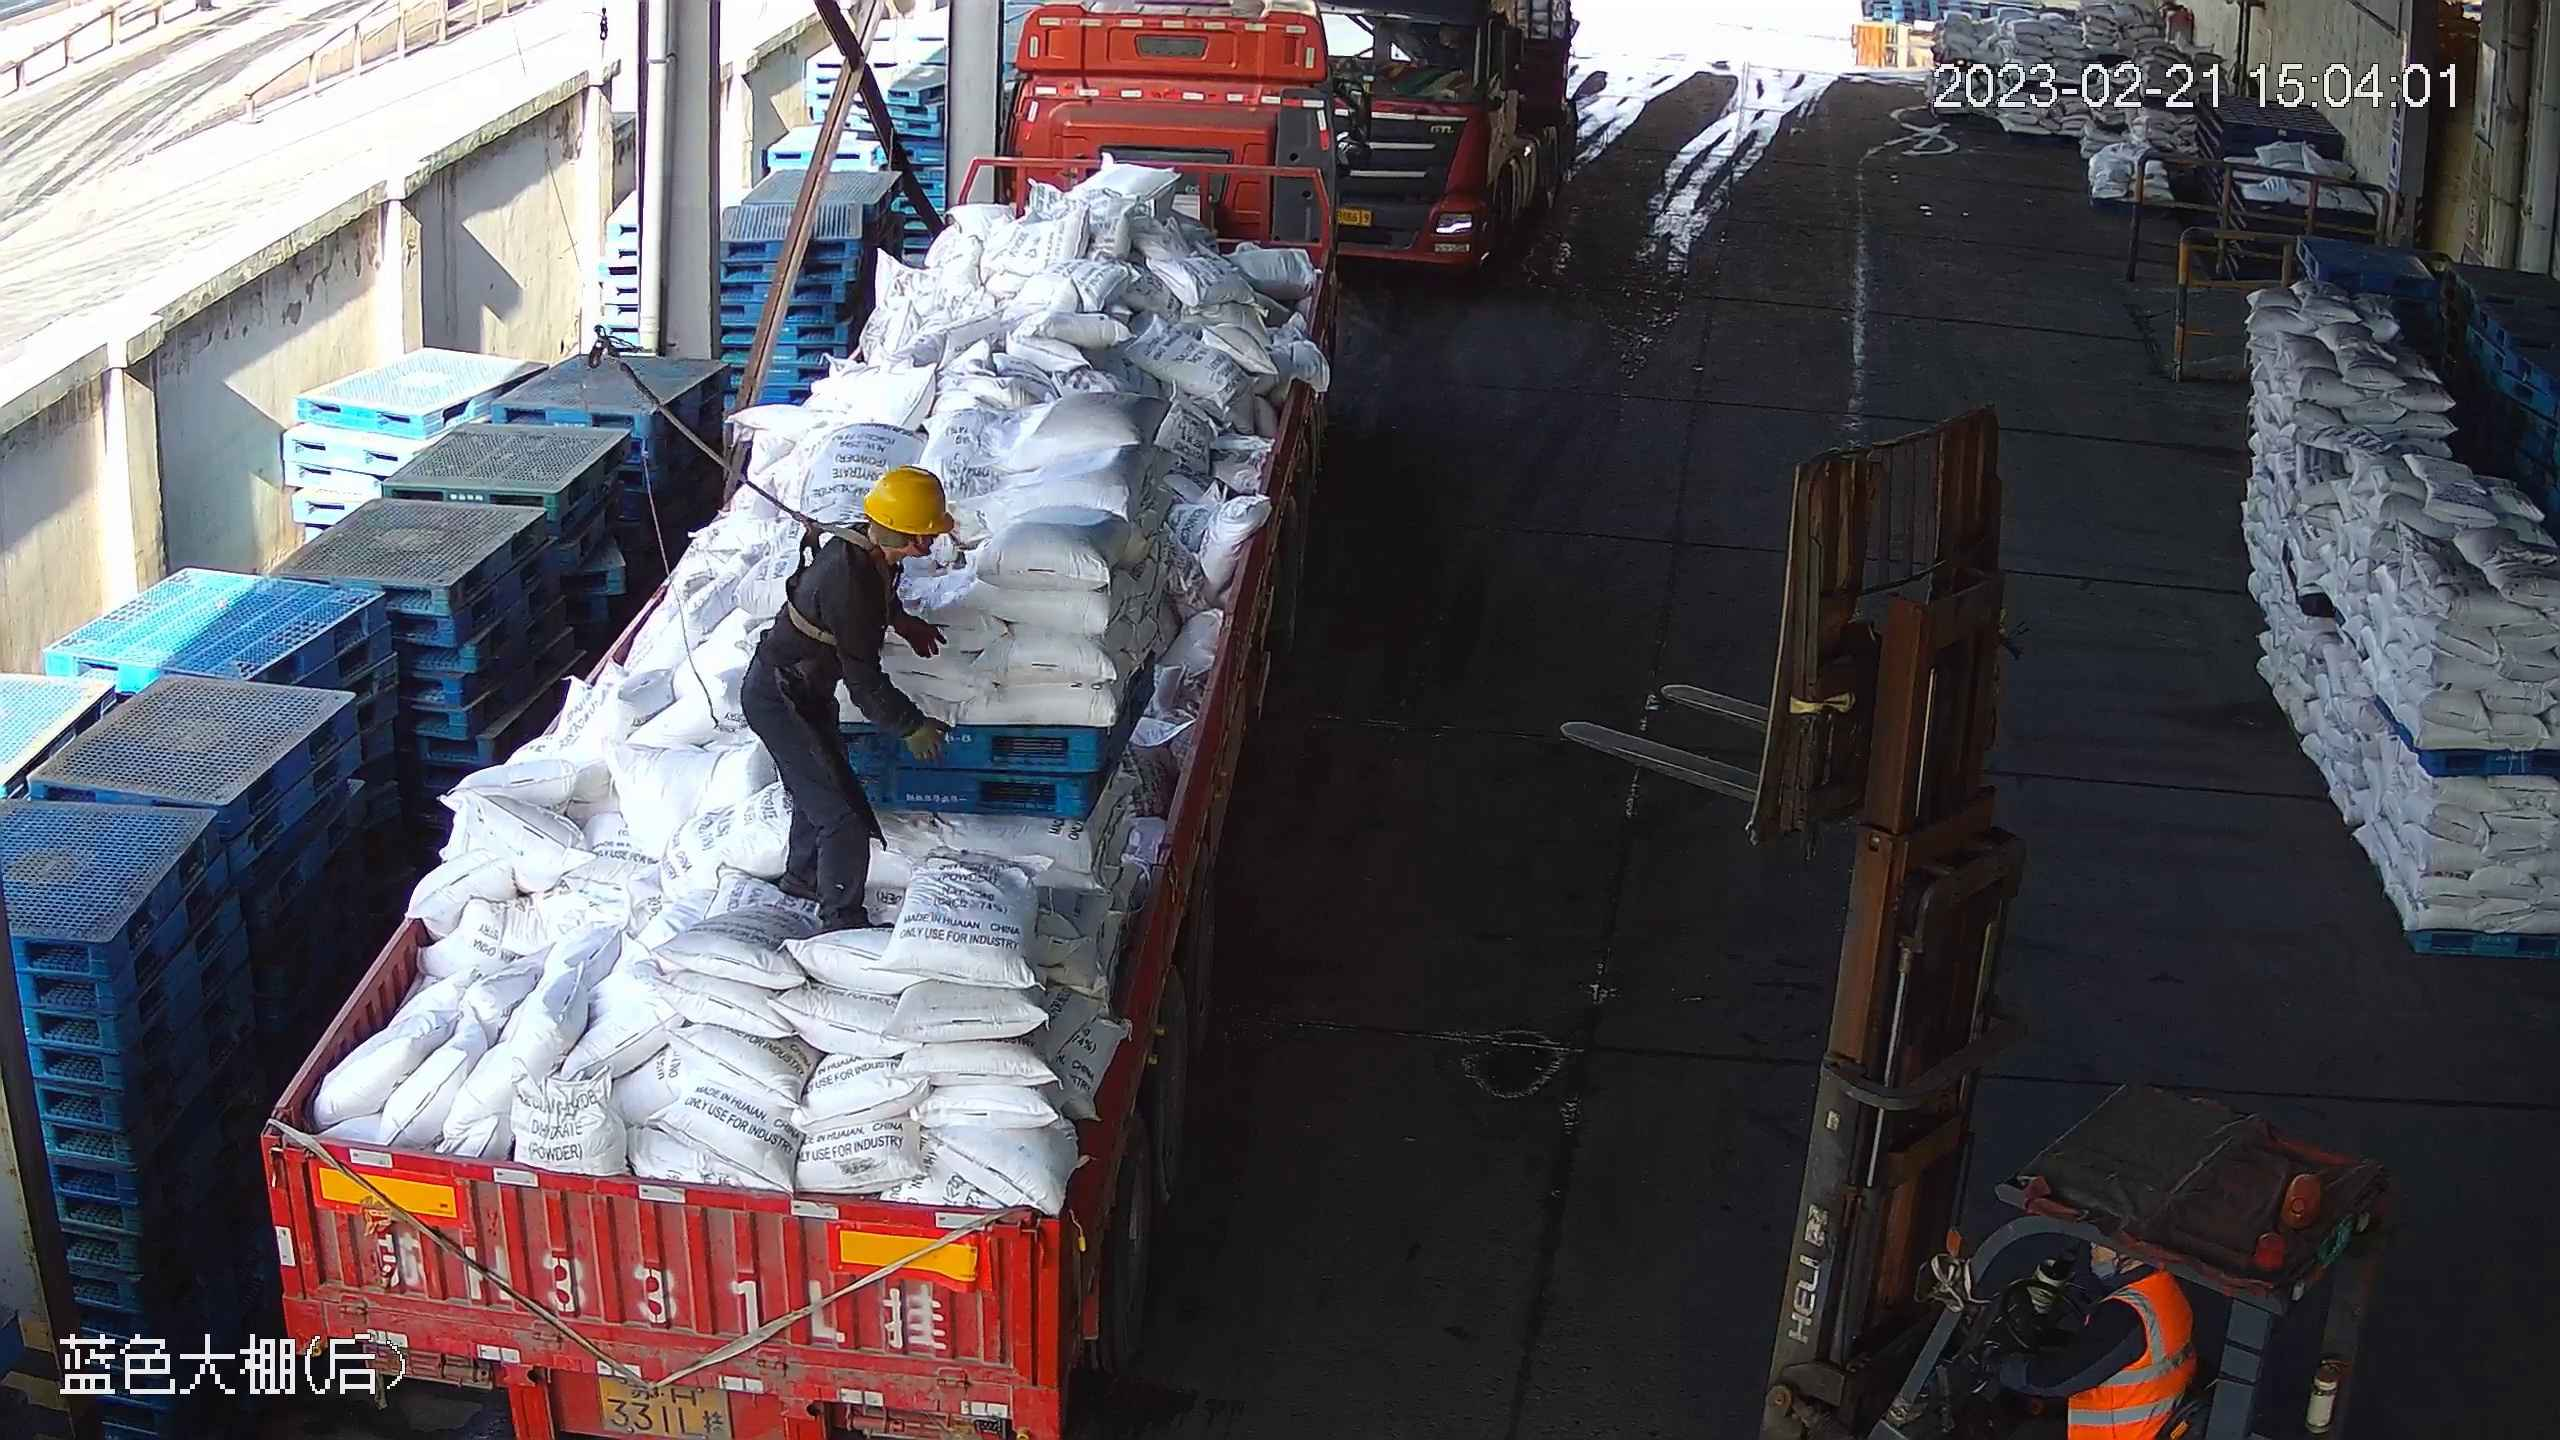belt: (778, 508, 904, 650)
head: (808, 460, 960, 593)
helmet: (860, 465, 954, 537)
people: (737, 461, 959, 942)
truck: (254, 1, 1337, 1437), (1265, 1, 1595, 242)
